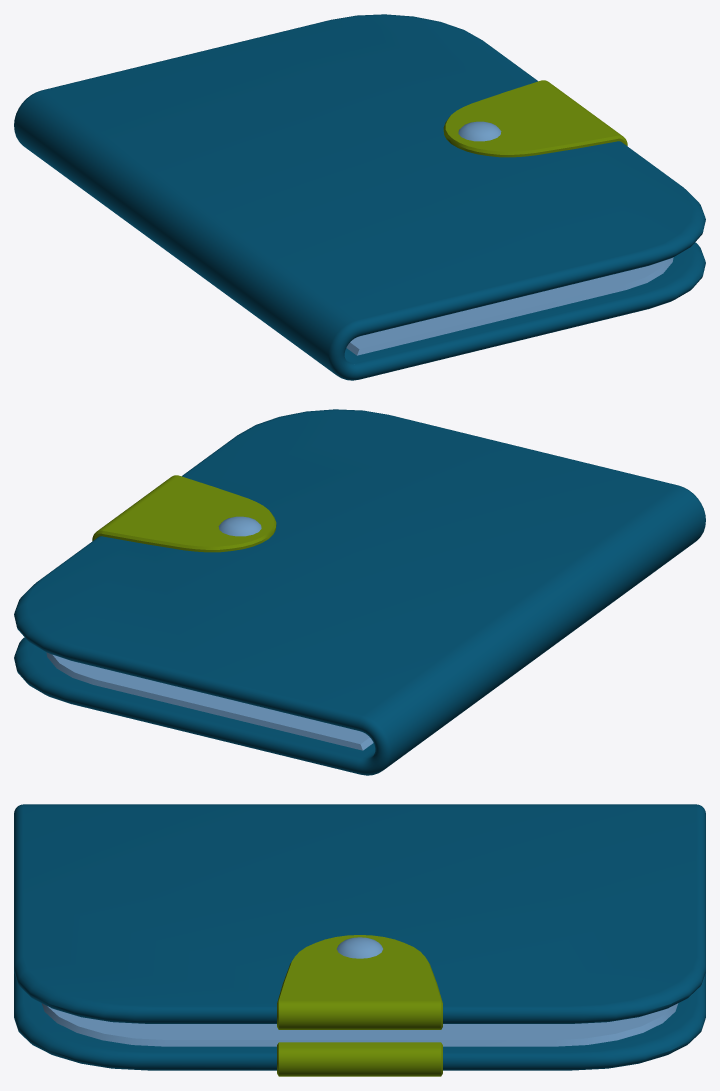
File: Notebook.fbx
The picture shows the model from 3 angles, top to bottom: view 1: azimuth 30°, elevation 25°; view 2: azimuth 150°, elevation 25°; view 3: azimuth 270°, elevation 25°; orthographic projection. The views are drawn at different scales.
Parts seen in each view (by area): view 1: Notebook; view 2: Notebook; view 3: Notebook.
Boxes of the visible parts, bbox=[...] form: Notebook: bbox=[14, 14, 705, 380]; Notebook: bbox=[14, 409, 705, 775]; Notebook: bbox=[14, 804, 705, 1076].
Size of the model in its own units: 10 by 1.89 by 13.33.
